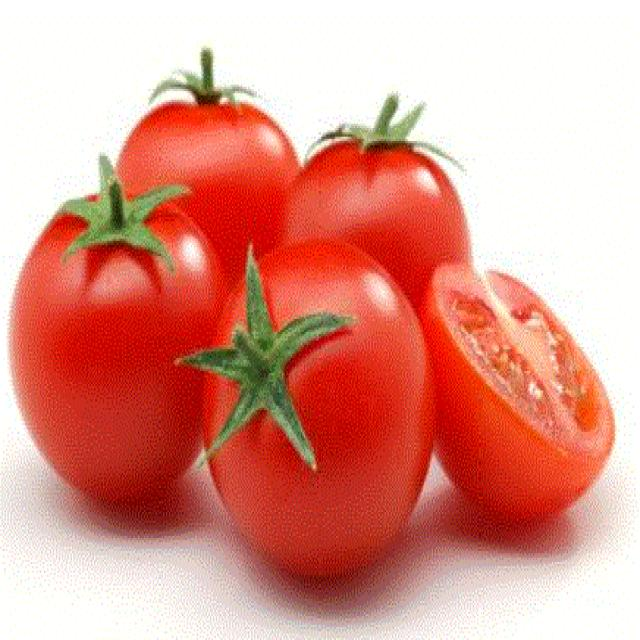Healthy: (189, 271, 434, 559), (28, 188, 215, 478), (303, 102, 488, 301), (114, 84, 303, 252)
